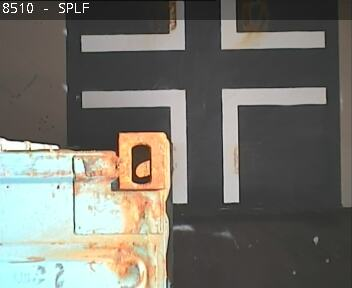groundmarker_1: (81, 89, 326, 203), (79, 4, 323, 51)
